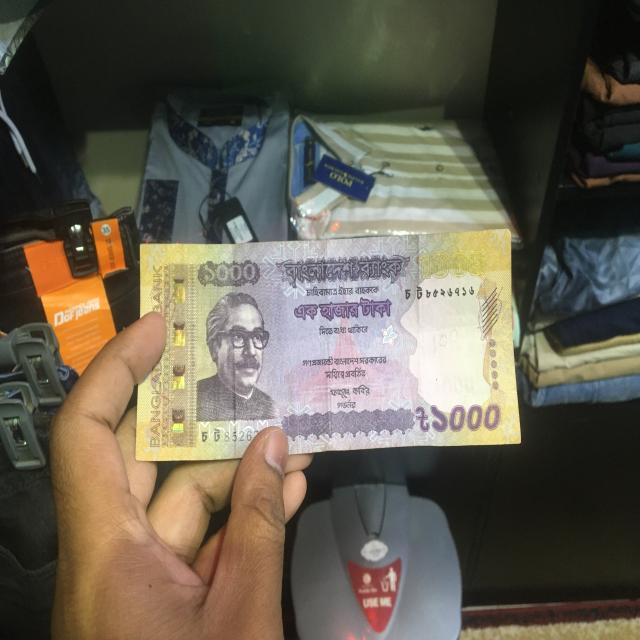Taka: (136, 239, 522, 448)
